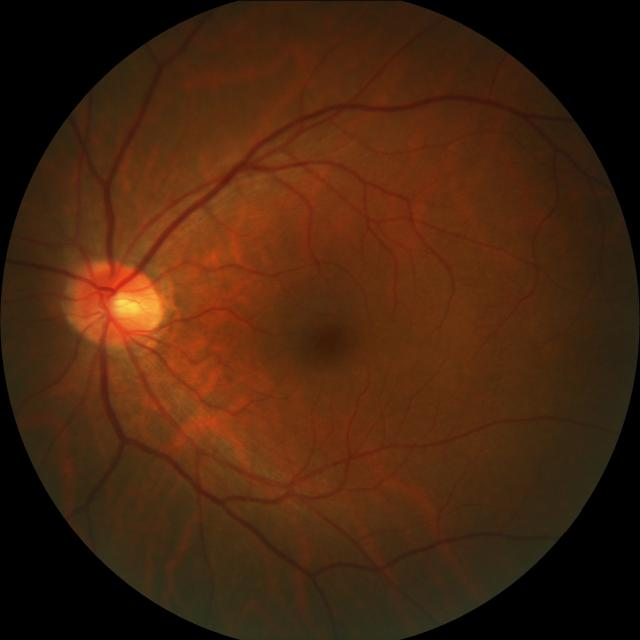OC: (100, 285, 144, 324)
OD: (62, 258, 161, 347)
